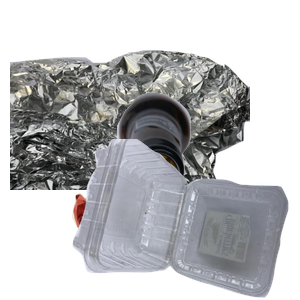glass: (115, 90, 300, 270)
metal: (10, 47, 250, 227)
plastic: (70, 139, 300, 300)
trash: (70, 162, 257, 300)
